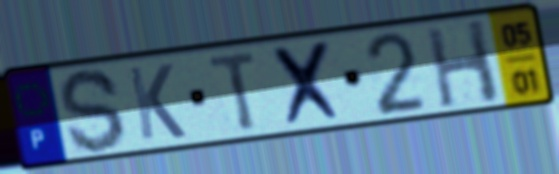2: (362, 29, 430, 119)
H: (421, 16, 504, 111)
K: (124, 61, 189, 143)
S: (56, 66, 130, 156)
T: (205, 47, 262, 135)
X: (268, 37, 350, 130)
